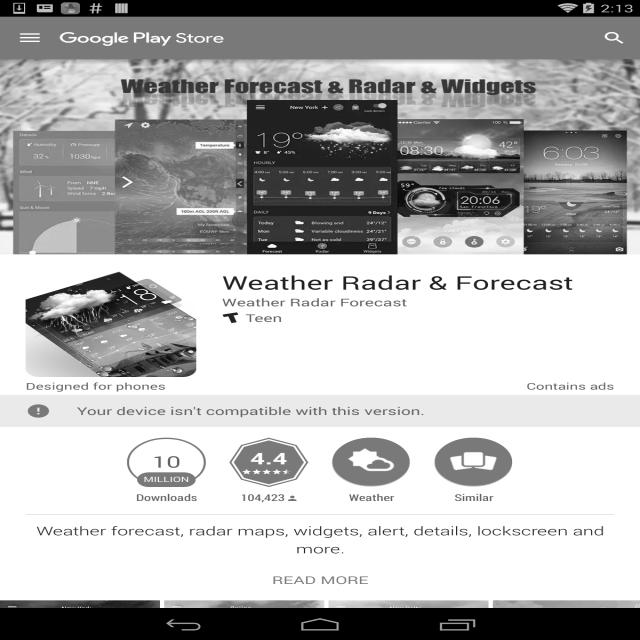Button: (222, 438, 316, 503), (324, 438, 418, 503), (426, 438, 520, 503)
ImageButton: (0, 17, 60, 59)
ImageView: (0, 59, 640, 254), (26, 270, 196, 377), (0, 600, 160, 640), (164, 600, 324, 640), (328, 600, 488, 640), (493, 600, 640, 640), (332, 438, 411, 487), (434, 438, 513, 487), (60, 30, 224, 46), (26, 403, 51, 419), (222, 312, 239, 323), (288, 496, 297, 501)
TextView: (0, 522, 640, 569), (0, 569, 640, 587), (222, 270, 614, 295), (77, 404, 424, 418), (222, 295, 407, 309), (25, 380, 166, 392), (589, 22, 640, 54), (324, 487, 418, 504), (426, 487, 520, 504), (120, 487, 213, 504), (526, 380, 614, 392), (250, 447, 288, 469), (240, 487, 285, 504), (152, 452, 181, 472), (245, 311, 283, 325), (142, 475, 192, 484)
